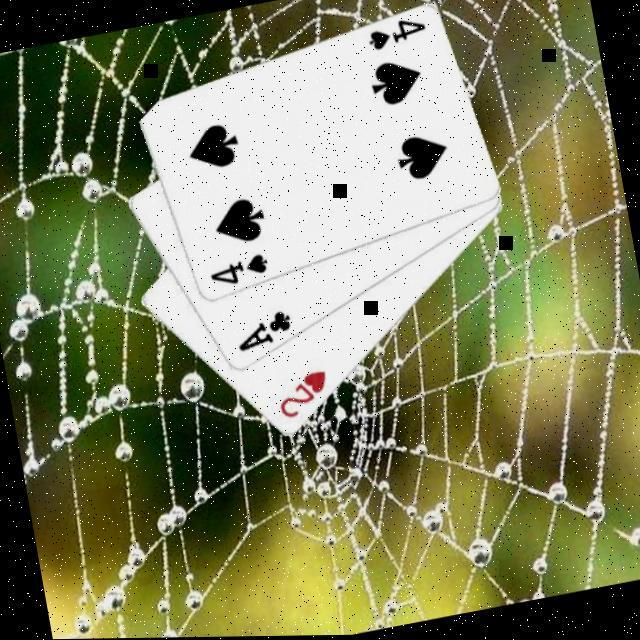2H: (271, 367, 336, 425)
4S: (204, 250, 274, 294), (363, 15, 431, 58)
AC: (230, 306, 298, 358)
